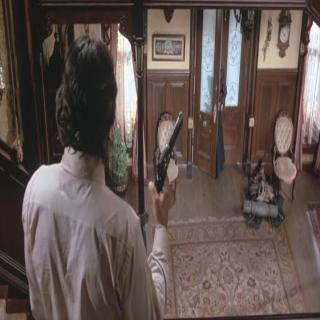gun: (149, 106, 188, 214)
